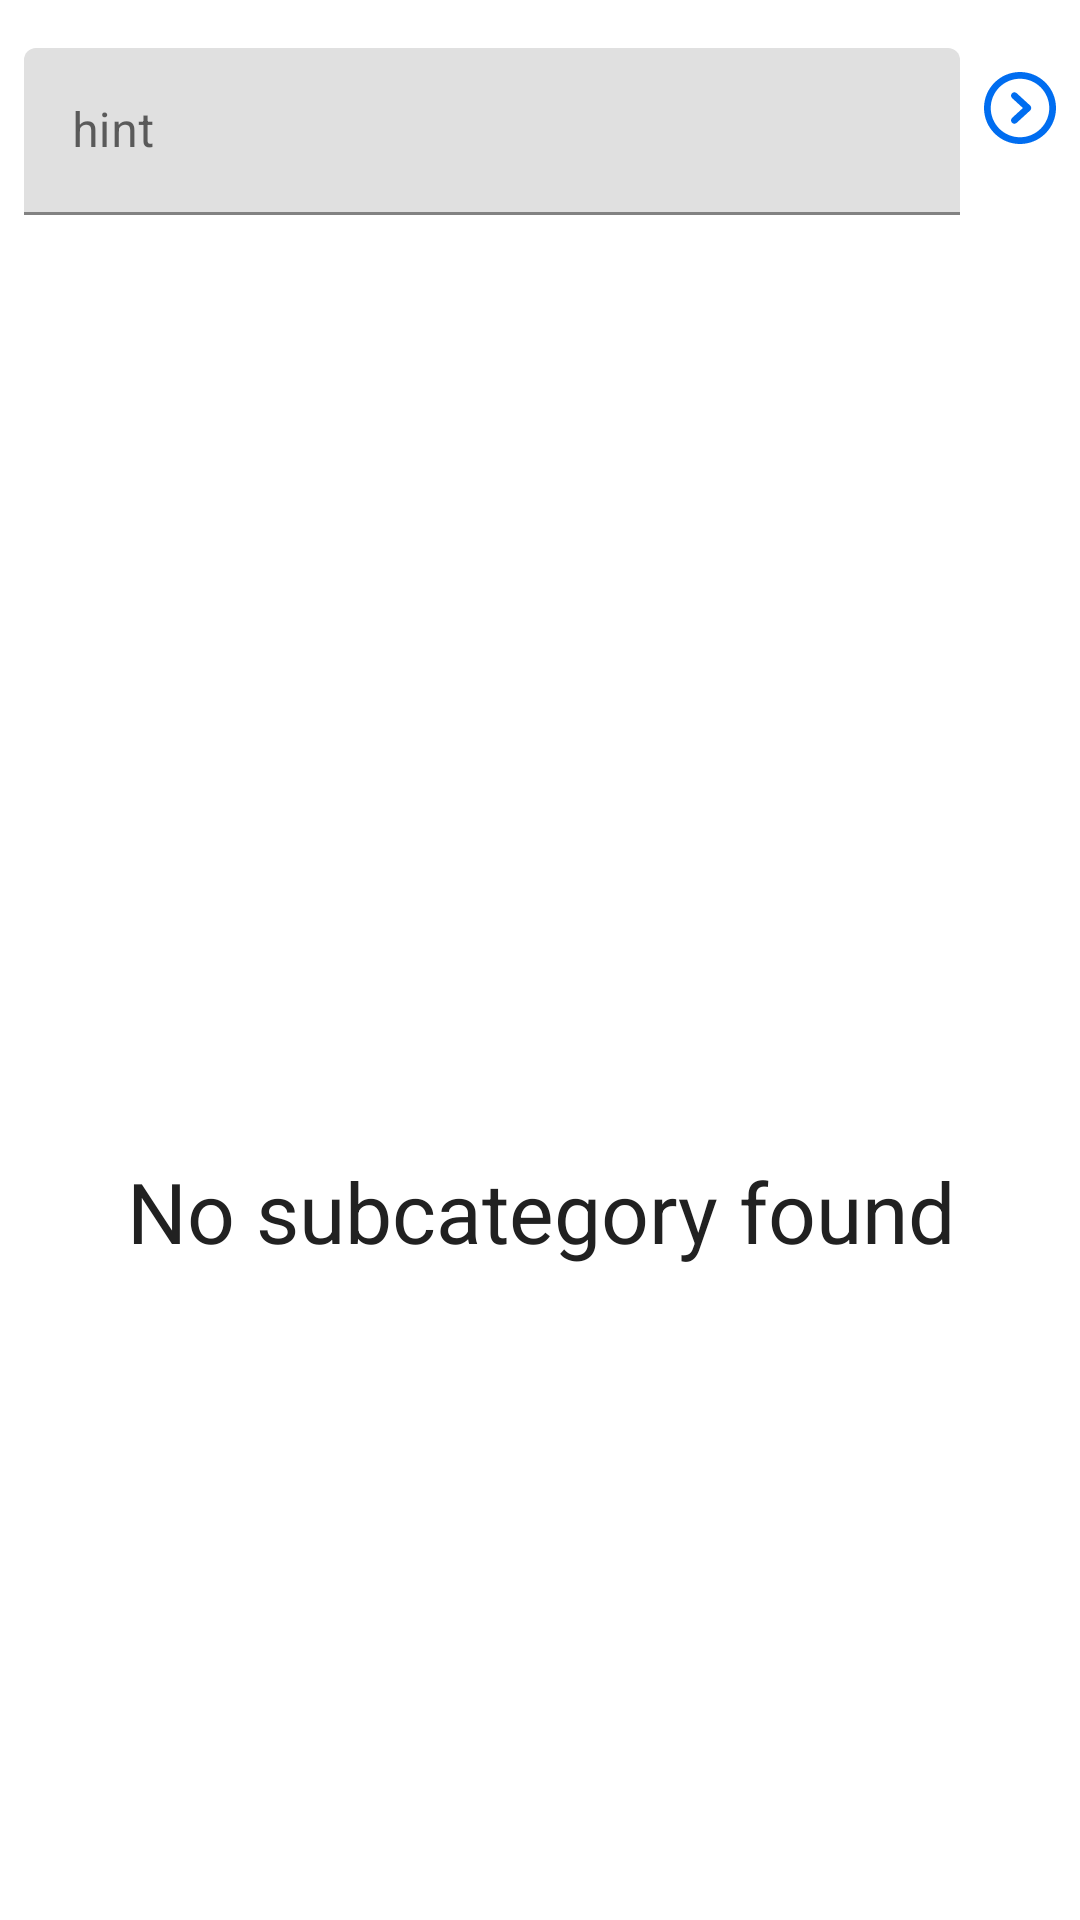

Locate icon controls on the screen. Image size 1080 x 1920, boxes as (x1, y1, x2, y2).
right arrow circular: (984, 72, 1056, 144)
